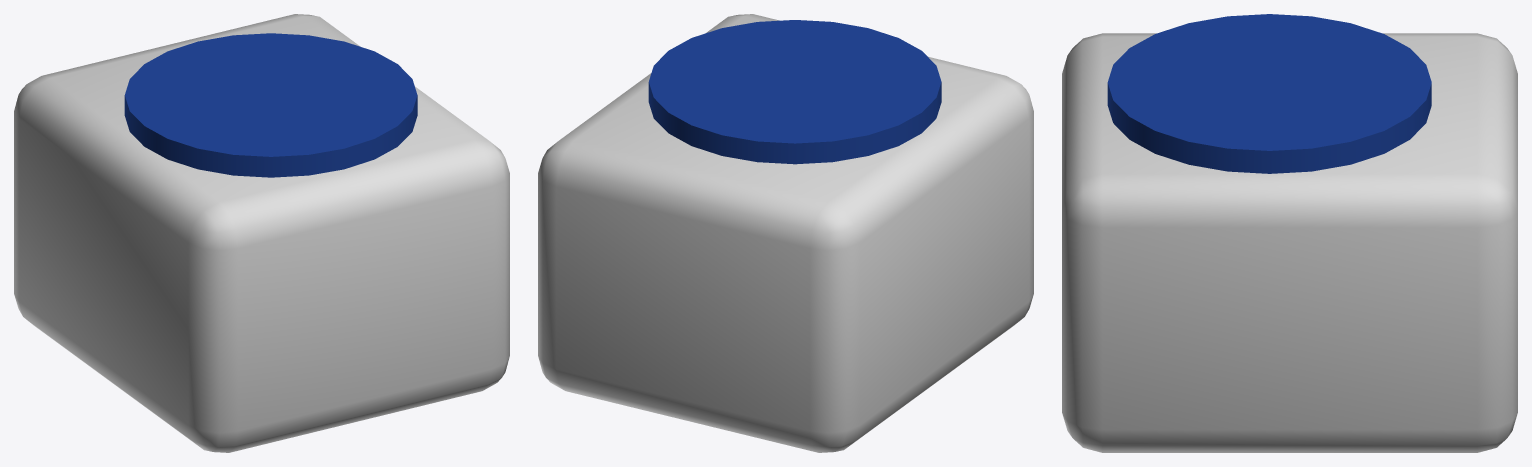
The model's file is hospital.lab.centrifuge.glb.
The picture shows the model from 3 angles, left to right: view 1: azimuth 30°, elevation 25°; view 2: azimuth 150°, elevation 25°; view 3: azimuth 270°, elevation 25°; orthographic projection. The views are drawn at different scales.
Visible parts, largest first — view 1: main__plastic_white, main__plastic_blue; view 2: main__plastic_white, main__plastic_blue; view 3: main__plastic_white, main__plastic_blue.
Boxes of the visible parts, x1,y1,x2,y2 form: main__plastic_white: (14, 14, 509, 452); main__plastic_blue: (124, 33, 417, 177); main__plastic_white: (538, 14, 1033, 452); main__plastic_blue: (648, 20, 941, 164); main__plastic_white: (1062, 33, 1517, 452); main__plastic_blue: (1107, 14, 1431, 173).
Bounding box in the file's own units: 0.4 × 0.325 × 0.45.
